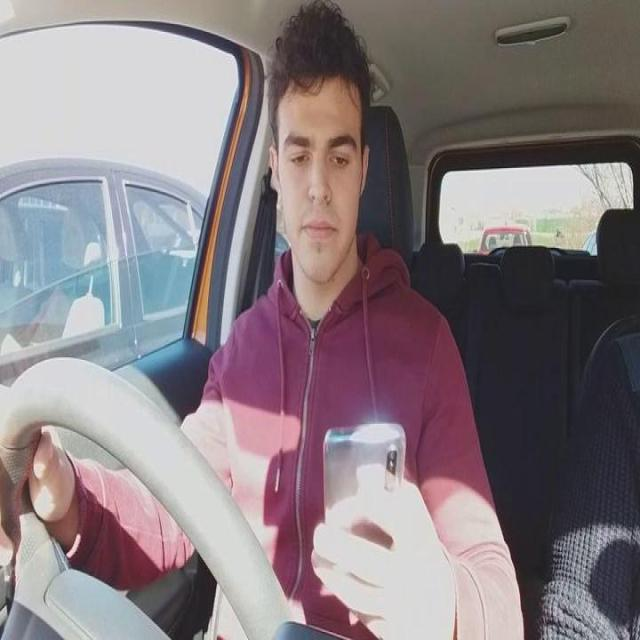phone: (321, 423, 410, 571)
